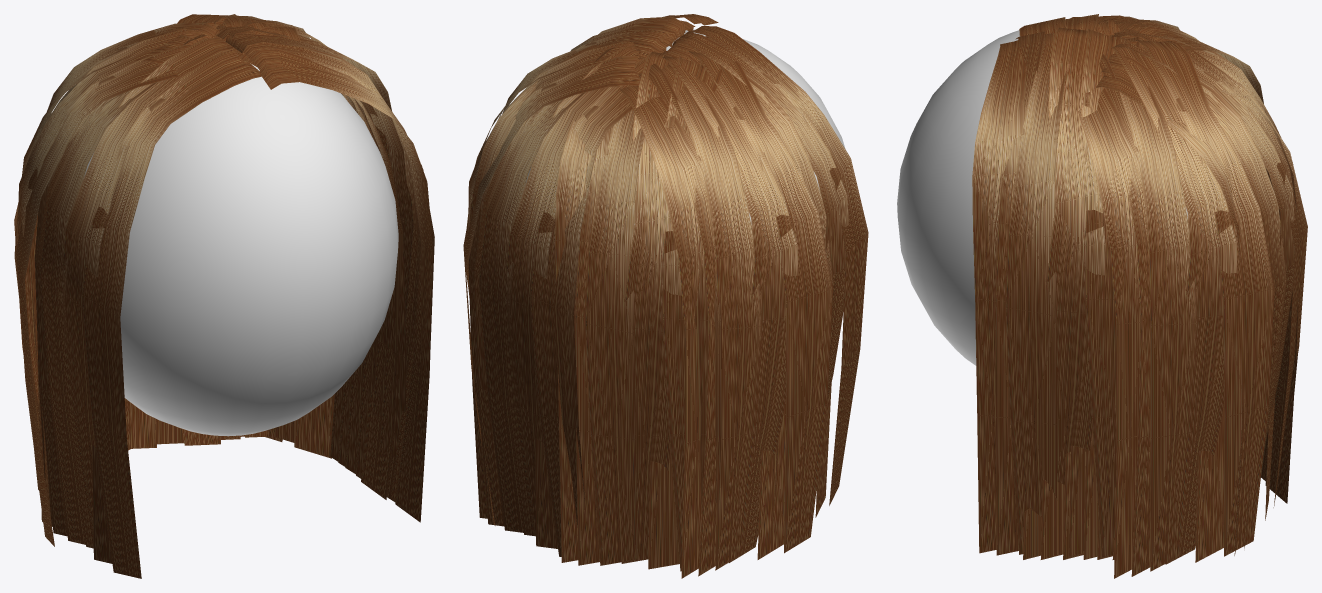
The model's file is card.fbx.
The picture shows the model from 3 angles, left to right: view 1: azimuth 30°, elevation 25°; view 2: azimuth 150°, elevation 25°; view 3: azimuth 270°, elevation 25°; orthographic projection. The views are drawn at different scales.
Parts seen in each view (by area): view 1: Sphere001, Object009, Object007, Object008, Object039, Object014, Object037, Object005, Object013, Object012, Object042, Object041 (+18 smaller); view 2: Object024, Object014, Object018, Object019, Object013, Object030, Object026, Object015, Object025, Object009, Object020, Object008 (+16 smaller); view 3: Object042, Object032, Object036, Sphere001, Object037, Object031, Object039, Object033, Object038, Object041, Object035, Object030 (+14 smaller).
Boxes of the visible parts, left/top/right/bottom form: Sphere001: left=83, top=63, right=398, bottom=436; Object009: left=82, top=48, right=261, bottom=578; Object007: left=40, top=43, right=195, bottom=546; Object008: left=63, top=37, right=243, bottom=548; Object039: left=259, top=66, right=433, bottom=522; Object014: left=16, top=44, right=192, bottom=546; Object037: left=225, top=33, right=413, bottom=499; Object005: left=241, top=54, right=406, bottom=501; Object013: left=17, top=28, right=203, bottom=426; Object012: left=36, top=34, right=213, bottom=536; Object042: left=240, top=42, right=423, bottom=500; Object041: left=250, top=48, right=434, bottom=499; Object024: left=585, top=95, right=653, bottom=565; Object014: left=687, top=51, right=832, bottom=553; Object018: left=662, top=63, right=761, bottom=570; Object019: left=621, top=52, right=681, bottom=563; Object013: left=662, top=56, right=798, bottom=562; Object030: left=479, top=92, right=585, bottom=534; Object026: left=530, top=54, right=659, bottom=556; Object015: left=620, top=85, right=703, bottom=578; Object025: left=506, top=45, right=642, bottom=536; Object009: left=686, top=26, right=868, bottom=505; Object020: left=662, top=56, right=723, bottom=571; Object008: left=672, top=32, right=848, bottom=400; Object042: left=1005, top=33, right=1066, bottom=554; Object032: left=1135, top=39, right=1274, bottom=556; Object036: left=1119, top=77, right=1197, bottom=571; Sphere001: left=897, top=30, right=1187, bottom=365; Object037: left=1046, top=27, right=1105, bottom=484; Object031: left=1111, top=46, right=1237, bottom=564; Object039: left=972, top=40, right=1026, bottom=553; Object033: left=1078, top=88, right=1140, bottom=578; Object038: left=1081, top=29, right=1130, bottom=557; Object041: left=995, top=31, right=1045, bottom=555; Object035: left=1099, top=54, right=1150, bottom=576; Object030: left=1200, top=82, right=1286, bottom=449.
Bounding box in the file's own units: 26.97 × 33.99 × 26.71.
